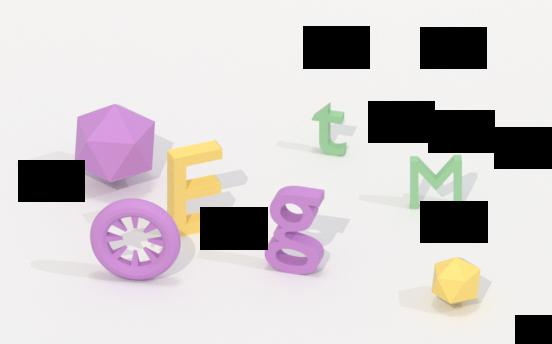E-hoa: (166, 137, 226, 239)
M-hoa: (409, 153, 465, 211)
dagiac: (74, 102, 157, 186), (432, 255, 482, 307)
g: (262, 183, 327, 278)
t: (311, 102, 350, 159)
tron: (88, 196, 183, 285)
